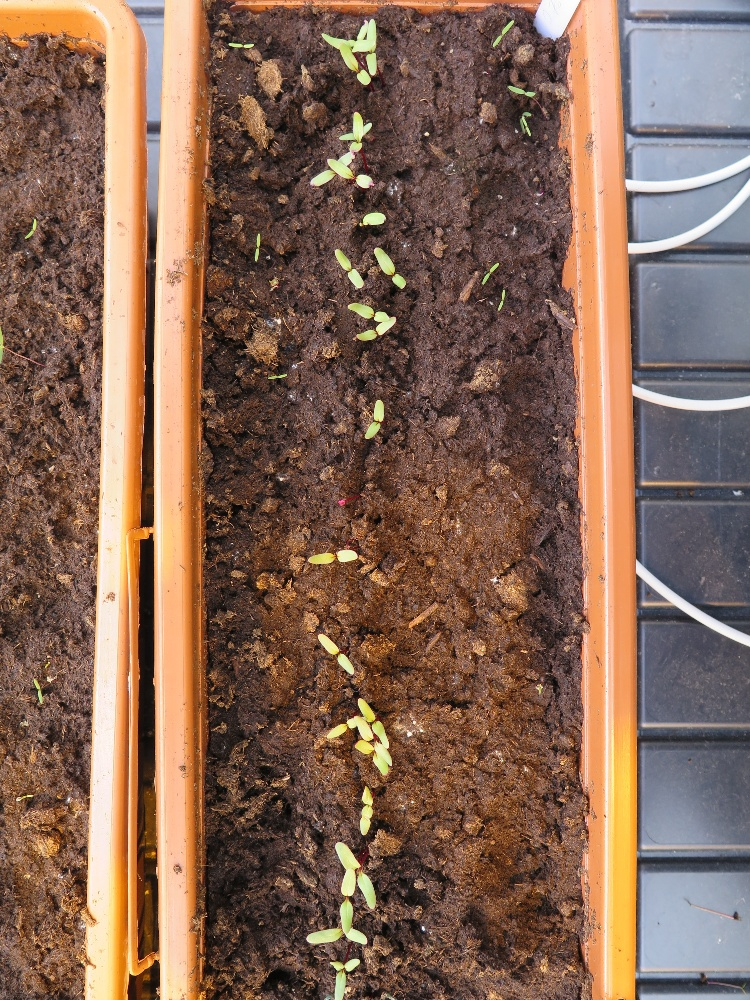crop: (334, 841, 376, 911), (354, 695, 391, 749), (324, 156, 378, 191), (316, 632, 356, 679), (354, 716, 392, 765), (308, 152, 355, 190), (323, 957, 363, 1000), (304, 924, 369, 949), (372, 246, 408, 289), (333, 247, 365, 291), (339, 44, 370, 88), (352, 741, 387, 777), (339, 868, 357, 935), (318, 32, 372, 53), (354, 316, 396, 342), (366, 19, 383, 82), (347, 301, 393, 324), (305, 548, 359, 567), (363, 397, 384, 441), (324, 716, 361, 739), (347, 111, 367, 153), (357, 785, 373, 834), (345, 210, 388, 227), (338, 123, 374, 140)
weed: (490, 17, 515, 50), (480, 260, 501, 288), (506, 83, 538, 99), (30, 676, 44, 707), (22, 217, 39, 241), (227, 41, 255, 51), (253, 230, 261, 264), (264, 372, 290, 382), (497, 287, 506, 314)
